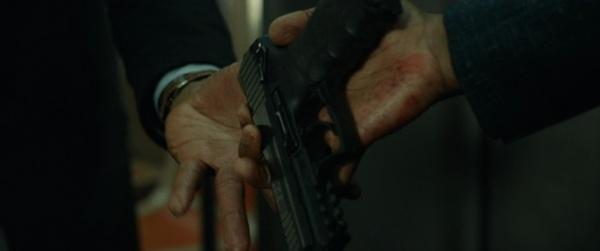Gun: (237, 0, 405, 251)
